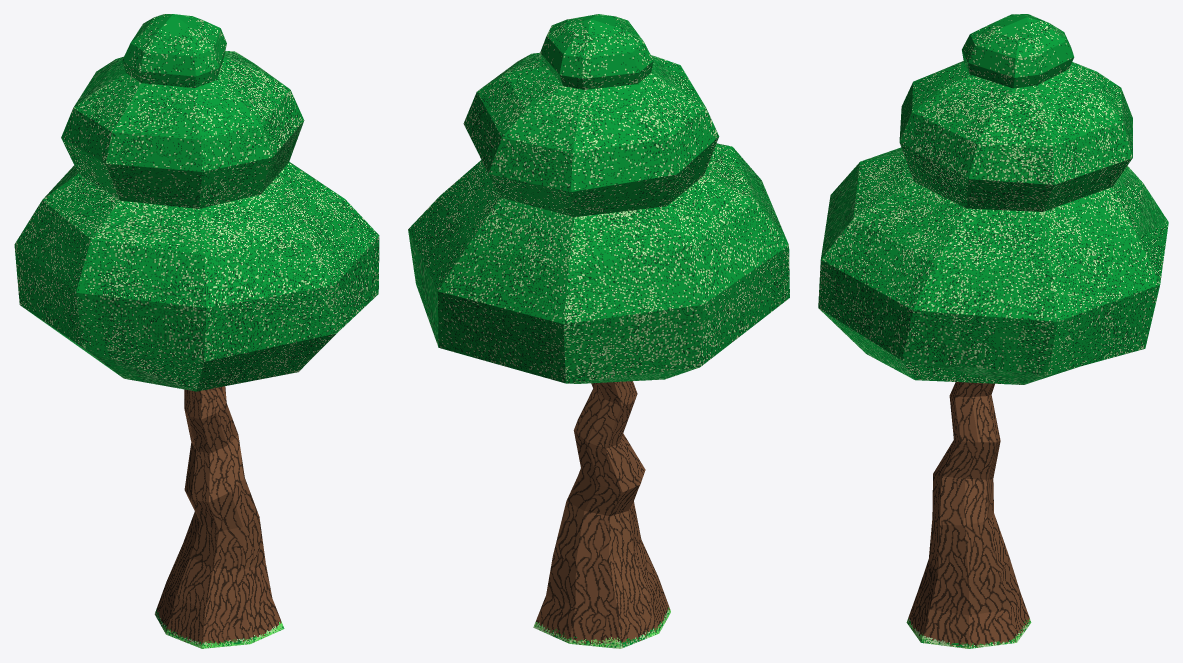
The model's file is catscape_tree.glb.
3 renders of one model, left to right at view 1: azimuth 30°, elevation 25°; view 2: azimuth 150°, elevation 25°; view 3: azimuth 270°, elevation 25°, orthographic. The views are drawn at different scales.
Visible parts, largest first — view 1: Tree #1; view 2: Tree #1; view 3: Tree #1.
Part boxes in pixels (<box>): Tree #1: <box>14,14,379,648</box>; Tree #1: <box>408,14,789,648</box>; Tree #1: <box>818,14,1168,648</box>.
Size of the model in its own units: 24.63 by 46.56 by 24.79.
1 material, 1 textured.
